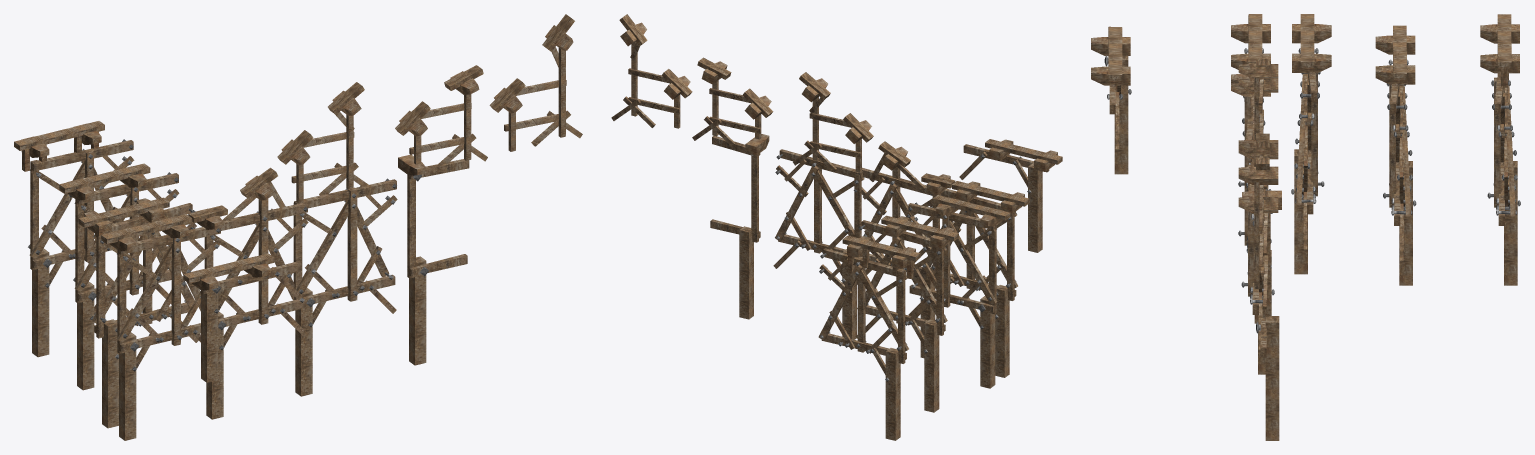
The model's file is scaffold.FBX.
3 renders of one model, left to right at view 1: azimuth 30°, elevation 25°; view 2: azimuth 150°, elevation 25°; view 3: azimuth 270°, elevation 25°, orthographic. The views are drawn at different scales.
Parts seen in each view (by area): view 1: scaffold_double, scaffold_wall, scaffold_rampstart, scaffold_simple, scaffold_parts, scaffold_lower, scaffold_short, scaffold_ramp3, scaffold_ramp, scaffold_ramp2, scaffold_up, scaffold_sup; view 2: scaffold_double, scaffold_simple, scaffold_wall, scaffold_parts, scaffold_rampstart, scaffold_lower, scaffold_short, scaffold_ramp3, scaffold_ramp, scaffold_ramp2, scaffold_sup, scaffold_up; view 3: scaffold_double, scaffold_simple, scaffold_lower, scaffold_short, scaffold_parts, scaffold_ramp3, scaffold_up, scaffold_ramp, scaffold_wall, scaffold_sup, scaffold_rampstart, scaffold_ramp2.
Part boxes in pixels (x1,y1,x2,y2): scaffold_double: [78, 197, 220, 440]; scaffold_wall: [293, 178, 397, 396]; scaffold_rampstart: [188, 167, 308, 419]; scaffold_simple: [59, 163, 179, 390]; scaffold_parts: [28, 139, 134, 270]; scaffold_lower: [183, 253, 302, 382]; scaffold_short: [398, 154, 469, 365]; scaffold_ramp3: [489, 14, 582, 151]; scaffold_ramp: [277, 82, 368, 203]; scaffold_ramp2: [395, 65, 487, 165]; scaffold_up: [14, 121, 104, 171]; scaffold_sup: [32, 248, 64, 357]; scaffold_double: [908, 181, 1029, 388]; scaffold_simple: [855, 215, 958, 412]; scaffold_wall: [773, 149, 864, 339]; scaffold_parts: [818, 248, 908, 363]; scaffold_rampstart: [853, 141, 955, 358]; scaffold_lower: [959, 139, 1062, 252]; scaffold_short: [710, 134, 769, 319]; scaffold_ramp3: [611, 14, 692, 128]; scaffold_ramp: [793, 72, 873, 172]; scaffold_ramp2: [692, 57, 773, 147]; scaffold_sup: [871, 347, 900, 440]; scaffold_up: [842, 235, 920, 278]; scaffold_double: [1231, 14, 1331, 274]; scaffold_simple: [1375, 25, 1416, 285]; scaffold_lower: [1091, 26, 1131, 174]; scaffold_short: [1242, 190, 1281, 440]; scaffold_parts: [1487, 73, 1517, 225]; scaffold_ramp3: [1238, 157, 1278, 309]; scaffold_up: [1480, 14, 1519, 92]; scaffold_ramp: [1238, 58, 1278, 189]; scaffold_wall: [1241, 139, 1274, 374]; scaffold_sup: [1504, 161, 1520, 285]; scaffold_rampstart: [1231, 63, 1271, 323]; scaffold_ramp2: [1238, 133, 1278, 255].
Size of the model in its own units: 256 by 159 by 171.
